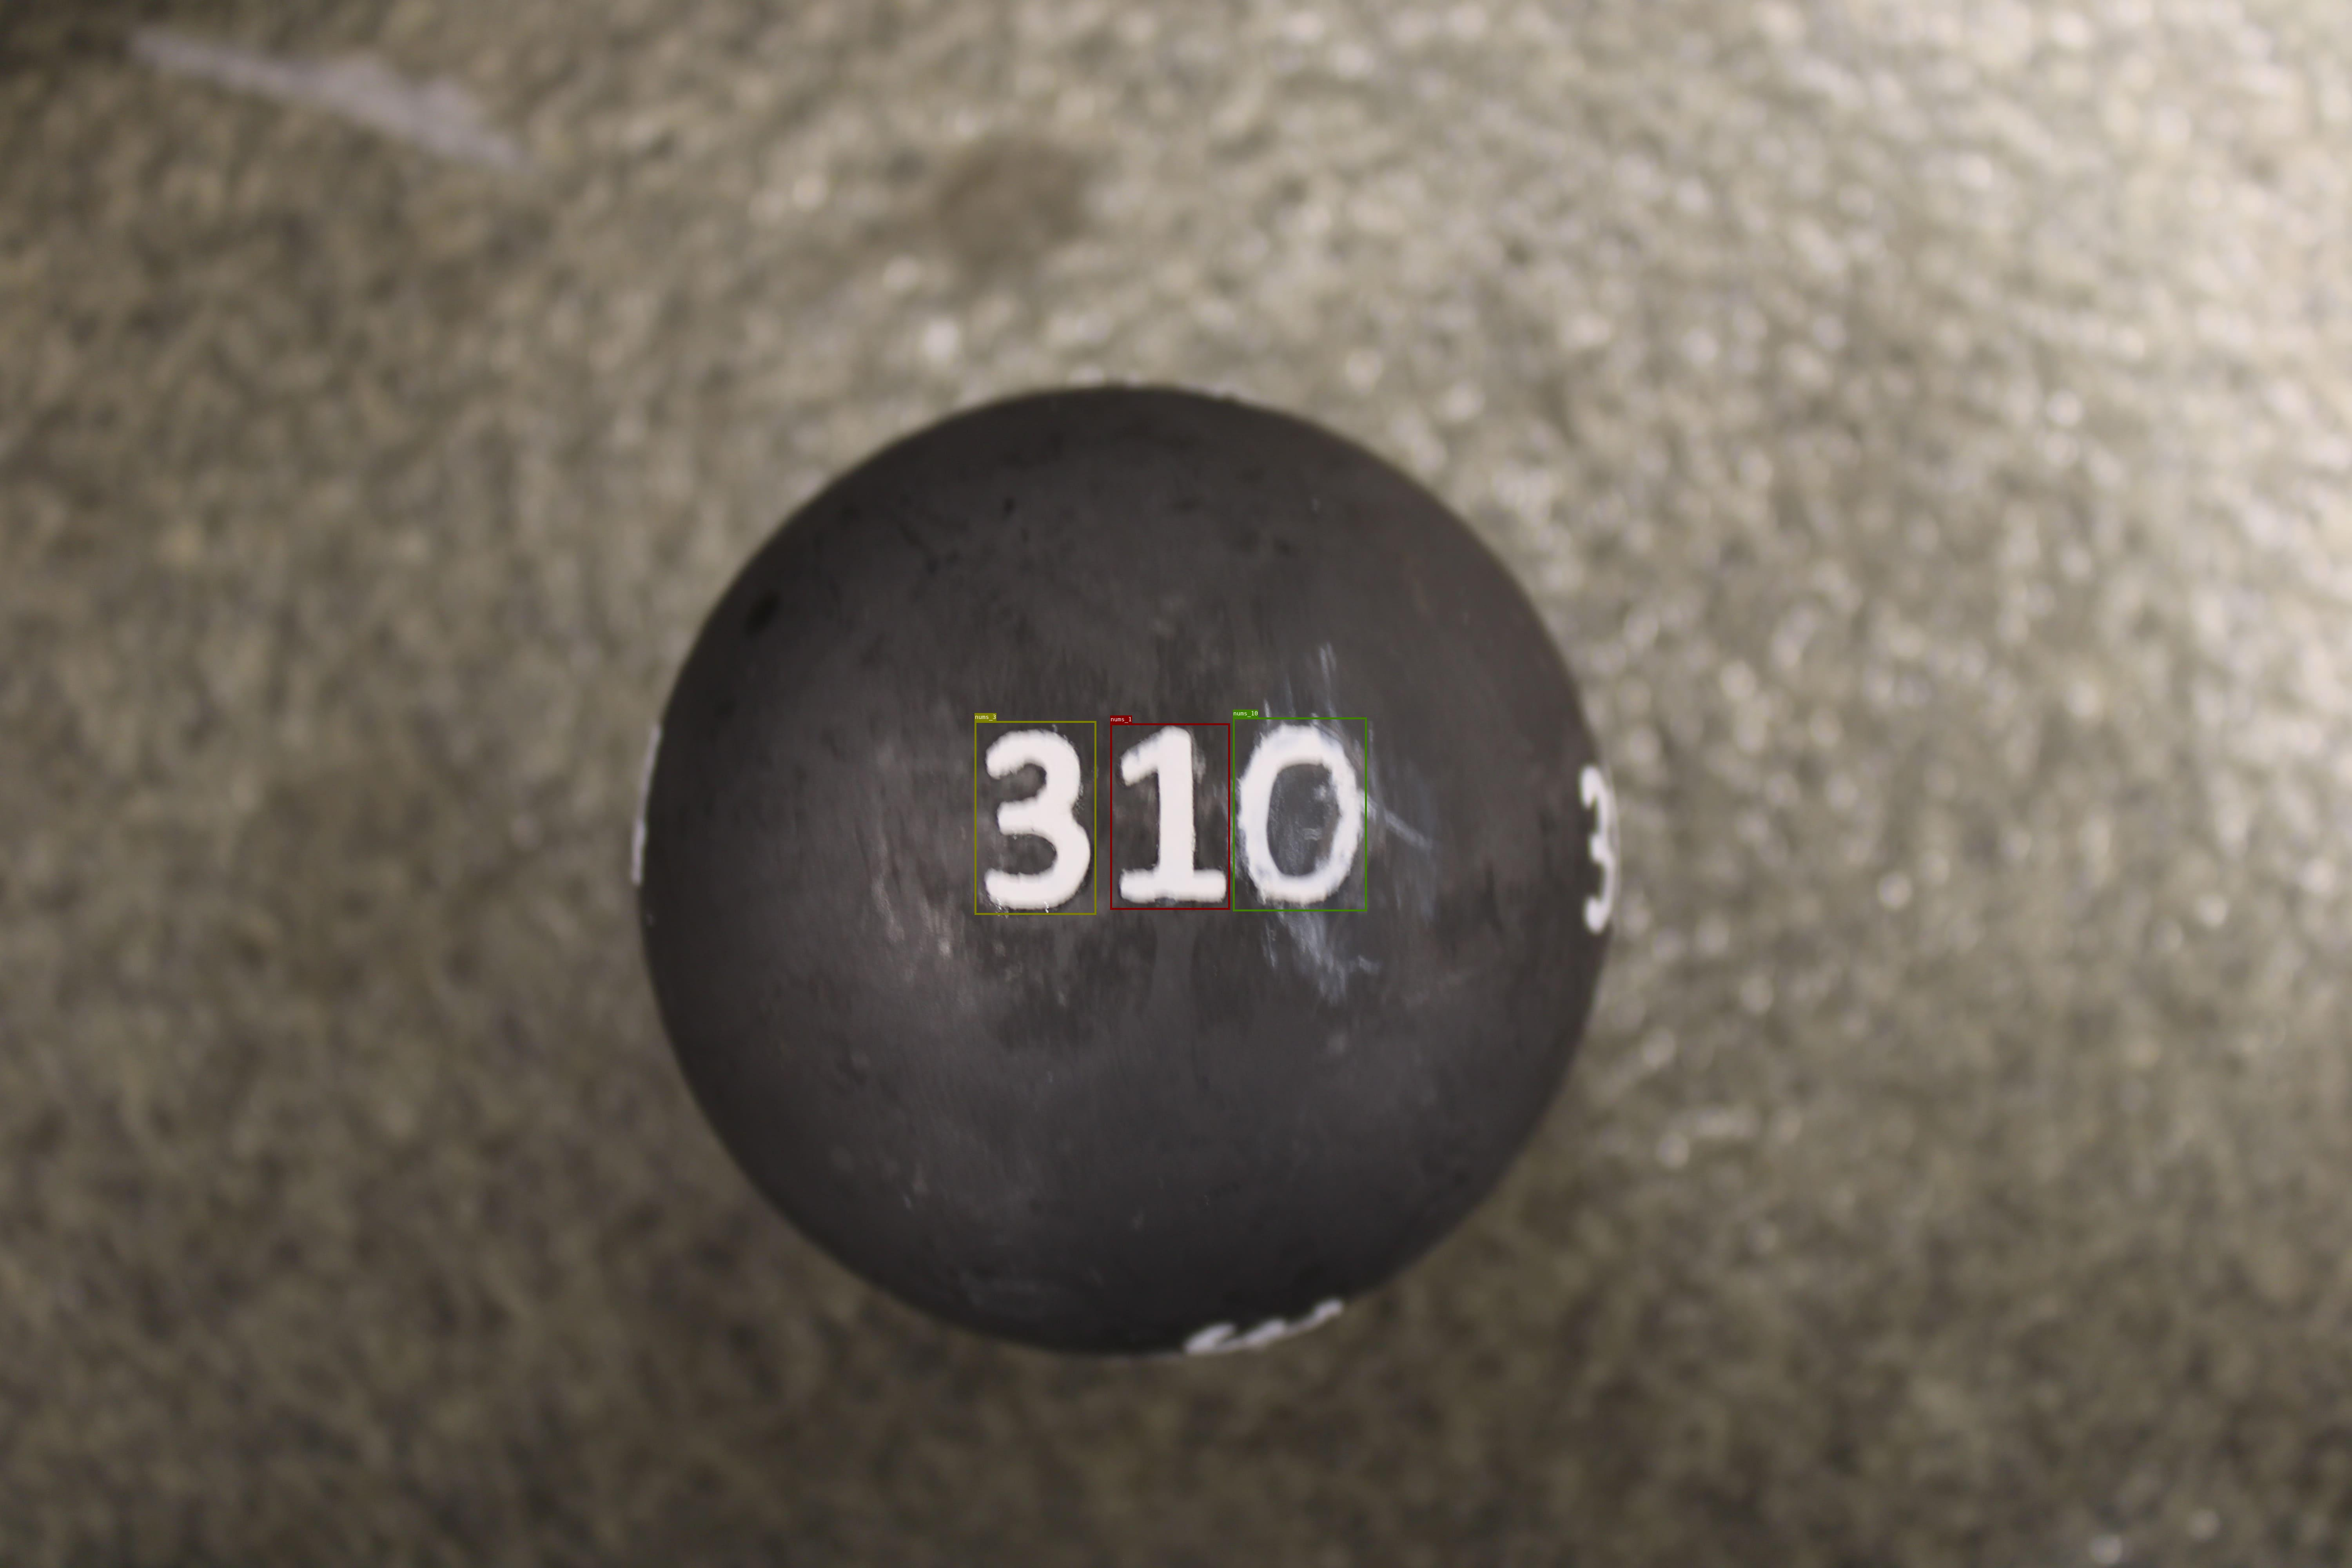nums_1: (1110, 723, 1230, 910)
nums_10: (1232, 717, 1367, 912)
nums_3: (975, 721, 1096, 915)
